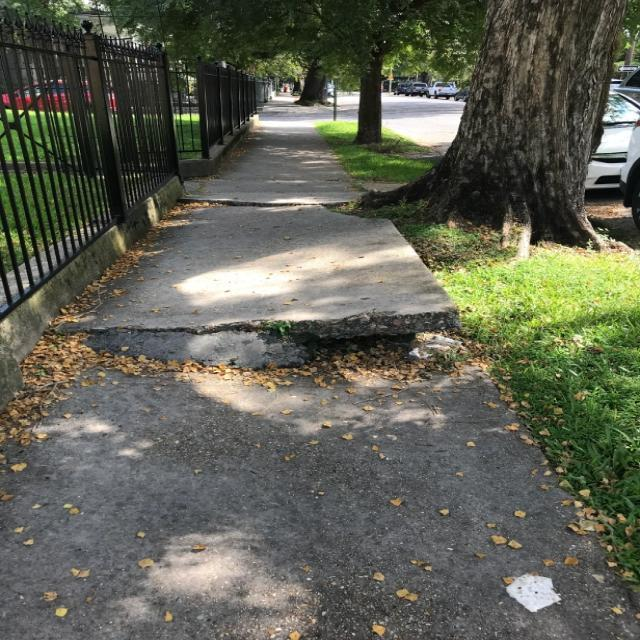hole: (107, 292, 504, 396), (208, 181, 378, 224)
